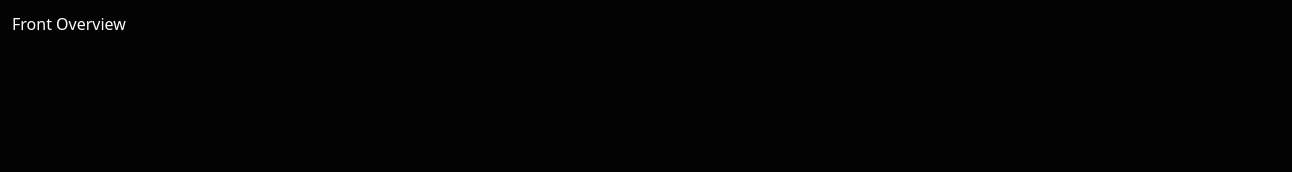
Test: KokonutUI Obsidian Pack (8 components) › CardFlip toggles front and back faces via click, Enter, and Space with aria-pressed
Click toggles to back
Click the button with aria-label "Feature proof card" at (69, 24), box [12,12,1291,36]
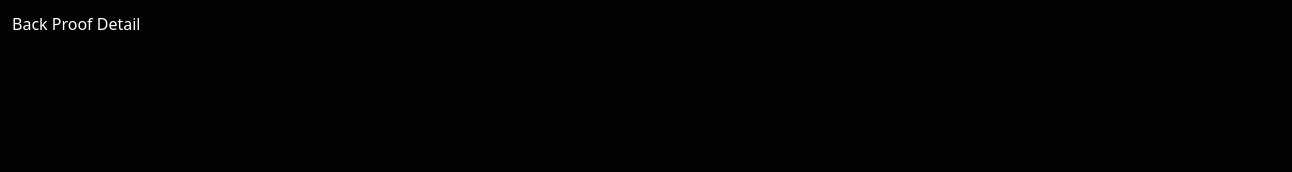
expect the button with aria-label "Feature proof card" is pressed: met
expect the button with aria-label "Feature proof card" has attribute data-flipped="true": met
Enter toggles back to front
Press Enter in the button with aria-label "Feature proof card", box [12,12,1291,36]
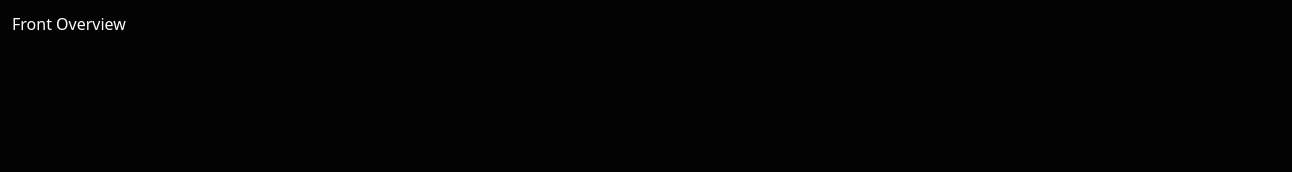
expect the button with aria-label "Feature proof card" is not pressed: met
Space toggles to back again
Press Space in the button with aria-label "Feature proof card", box [12,12,1291,36]
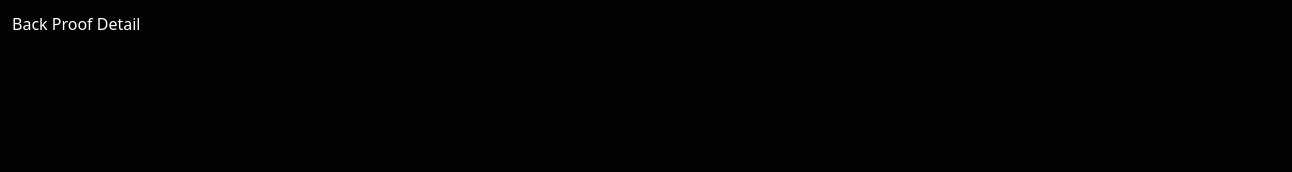
expect the button with aria-label "Feature proof card" is pressed: met, box [12,12,1291,36]
